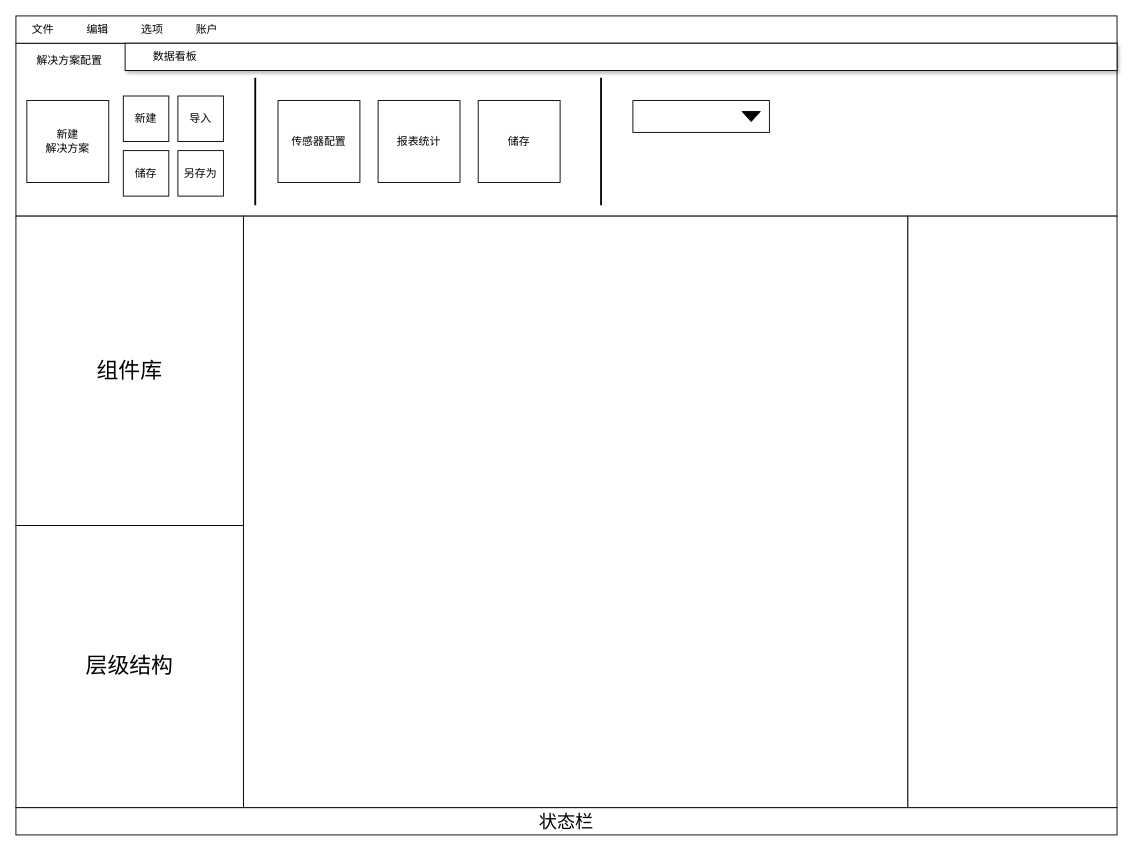
This 1138x851 diagram has some shape labels left out. Each missing label, with the centre of its shape:
"属性视图" belongs at point 1012,511.
"工作流编辑器" belongs at point 575,511.
"数据库" belongs at point 700,116.
